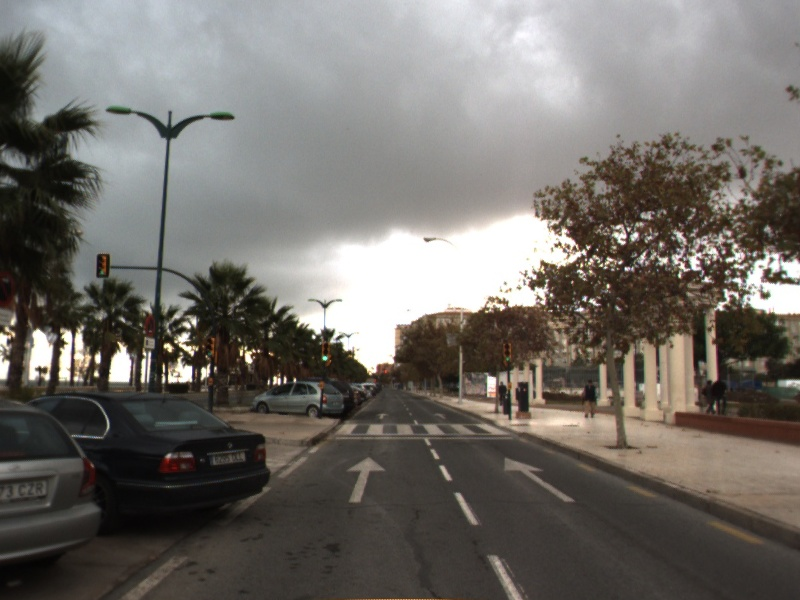STRAIGHT: (503, 455, 578, 504), (344, 455, 388, 504)
